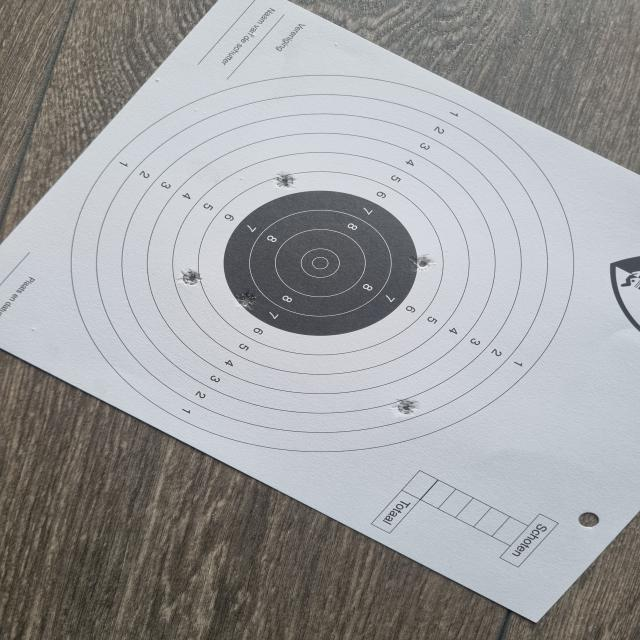4: (392, 399, 420, 414)
7: (176, 270, 202, 286), (274, 174, 298, 188)
8: (408, 254, 436, 272), (230, 293, 258, 310)
Black Contour: (224, 190, 419, 336)
Target: (72, 71, 578, 452)
